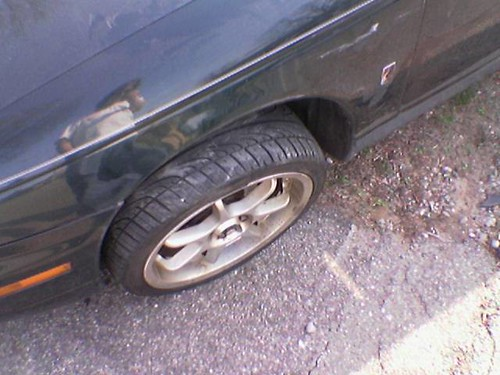car: (1, 1, 479, 304)
